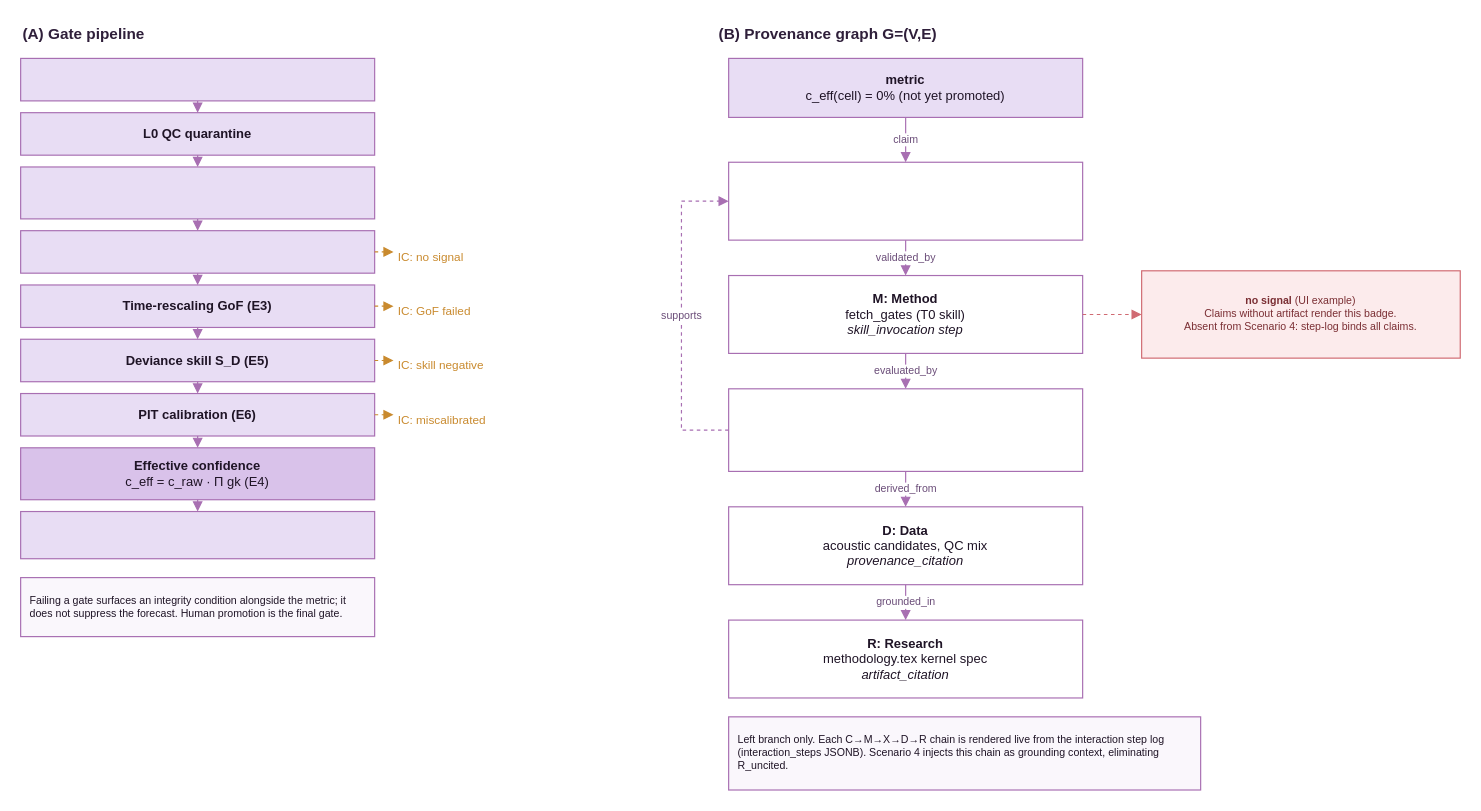
Some shapes in this 1481 by 811 pixel diagram are drawn without their labels. Each missing label, with the centre of its shape:
Acoustic detections (OrcaHello): point 197,79
C: Claim "lunar kernel beats null" gate_citation: point 905,200
Human promotion (DynamoDB): point 197,534
Phase-shuffled null test (E2): point 197,251
PSTH kernel fit logλ = b0 + Σ βkφk + logE (E1): point 197,192
X: Experiment Level 1 PSTH (illustrative p=0.002) repr_id, run_id: point 905,429
